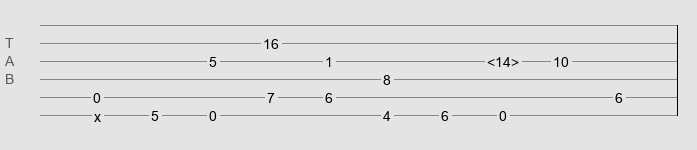0: (93, 90, 101, 100), (209, 108, 217, 118), (499, 108, 507, 118)
1: (325, 54, 333, 64)
10: (553, 54, 569, 64)
16: (263, 36, 279, 46)
4: (383, 108, 391, 118)
5: (151, 108, 159, 118), (209, 54, 217, 64)
6: (325, 90, 333, 100), (441, 108, 449, 118), (615, 90, 623, 100)
7: (267, 90, 275, 100)
8: (383, 72, 391, 82)
harmonic: (487, 54, 519, 64)
x: (94, 109, 101, 117)
